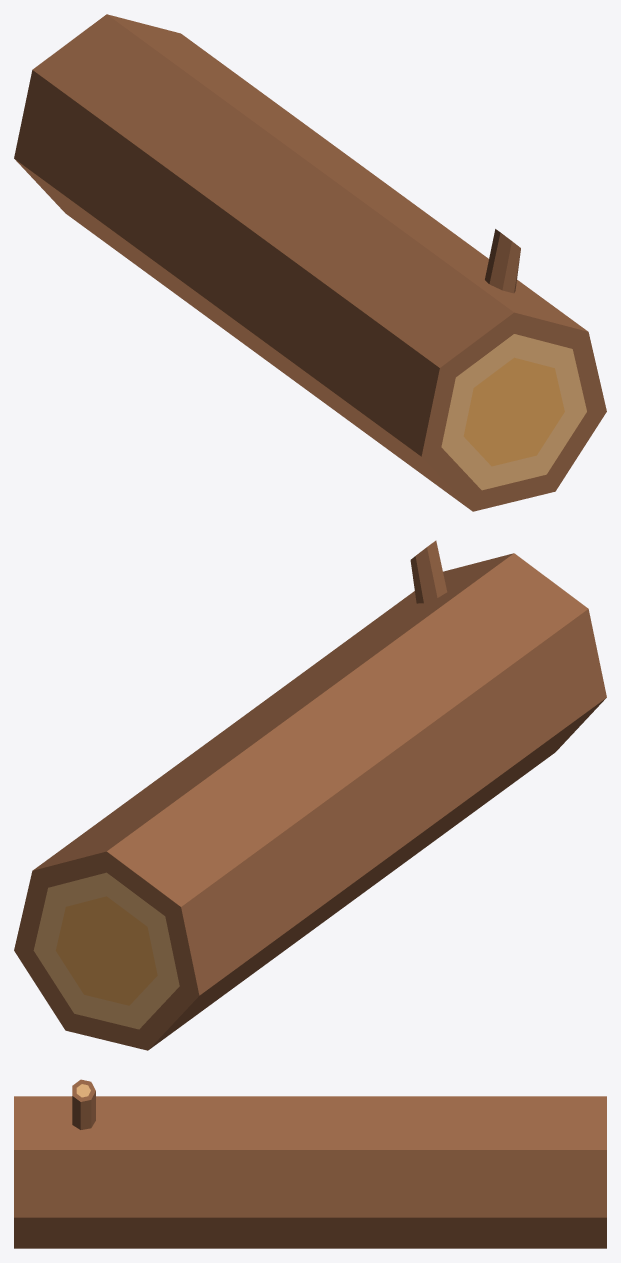
Rendered from fallen_log.glb.
The picture shows the model from 3 angles, top to bottom: view 1: azimuth 30°, elevation 25°; view 2: azimuth 150°, elevation 25°; view 3: azimuth 270°, elevation 25°; orthographic projection. The views are drawn at different scales.
Parts seen in each view (by area): view 1: Cylinder.003_Cylinder.007, Cylinder.005_Cylinder.009, Cylinder.006_Cylinder.010, Cylinder.008_Cylinder.012; view 2: Cylinder.003_Cylinder.007, Cylinder.004_Cylinder.008, Cylinder.007_Cylinder.011, Cylinder.008_Cylinder.012; view 3: Cylinder.003_Cylinder.007, Cylinder.008_Cylinder.012.
Boxes of the visible parts, left/top/right/bottom form: Cylinder.003_Cylinder.007: left=14, top=14, right=606, bottom=511; Cylinder.005_Cylinder.009: left=441, top=334, right=586, bottom=490; Cylinder.006_Cylinder.010: left=463, top=357, right=564, bottom=466; Cylinder.008_Cylinder.012: left=485, top=229, right=520, bottom=293; Cylinder.003_Cylinder.007: left=14, top=553, right=606, bottom=1050; Cylinder.004_Cylinder.008: left=33, top=872, right=179, bottom=1029; Cylinder.007_Cylinder.011: left=55, top=896, right=157, bottom=1005; Cylinder.008_Cylinder.012: left=410, top=540, right=447, bottom=603; Cylinder.003_Cylinder.007: left=14, top=1096, right=606, bottom=1248; Cylinder.008_Cylinder.012: left=72, top=1079, right=95, bottom=1129.
Size of the model in its own units: 1.05 by 1.23 by 3.99.
